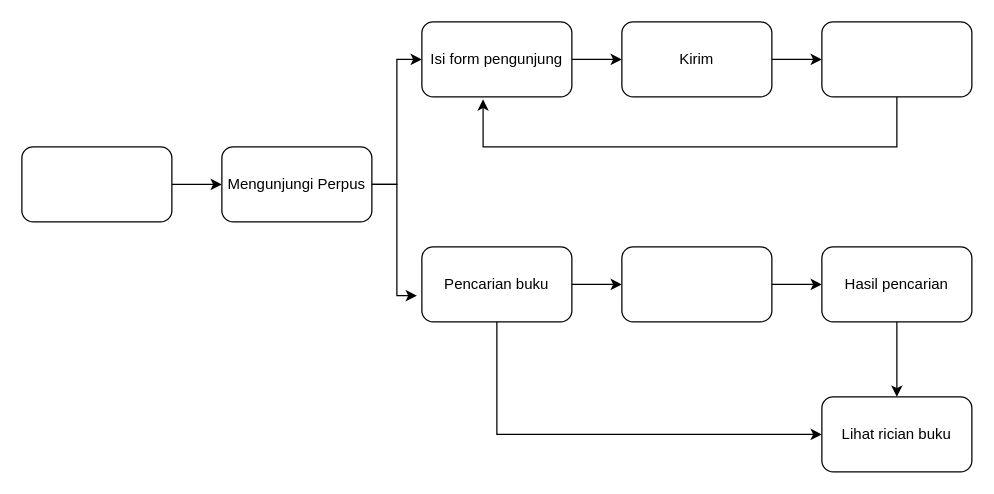
Some shapes in this 994 by 494 pixel diagram are drawn without their labels. The shapes that lost their labels are listed below. From the top down, each one's centre as x and y in pixels, then its label:
point 896,59: Daftar kunjungan
point 96,184: User
point 696,284: Masukan kata kunci judul
